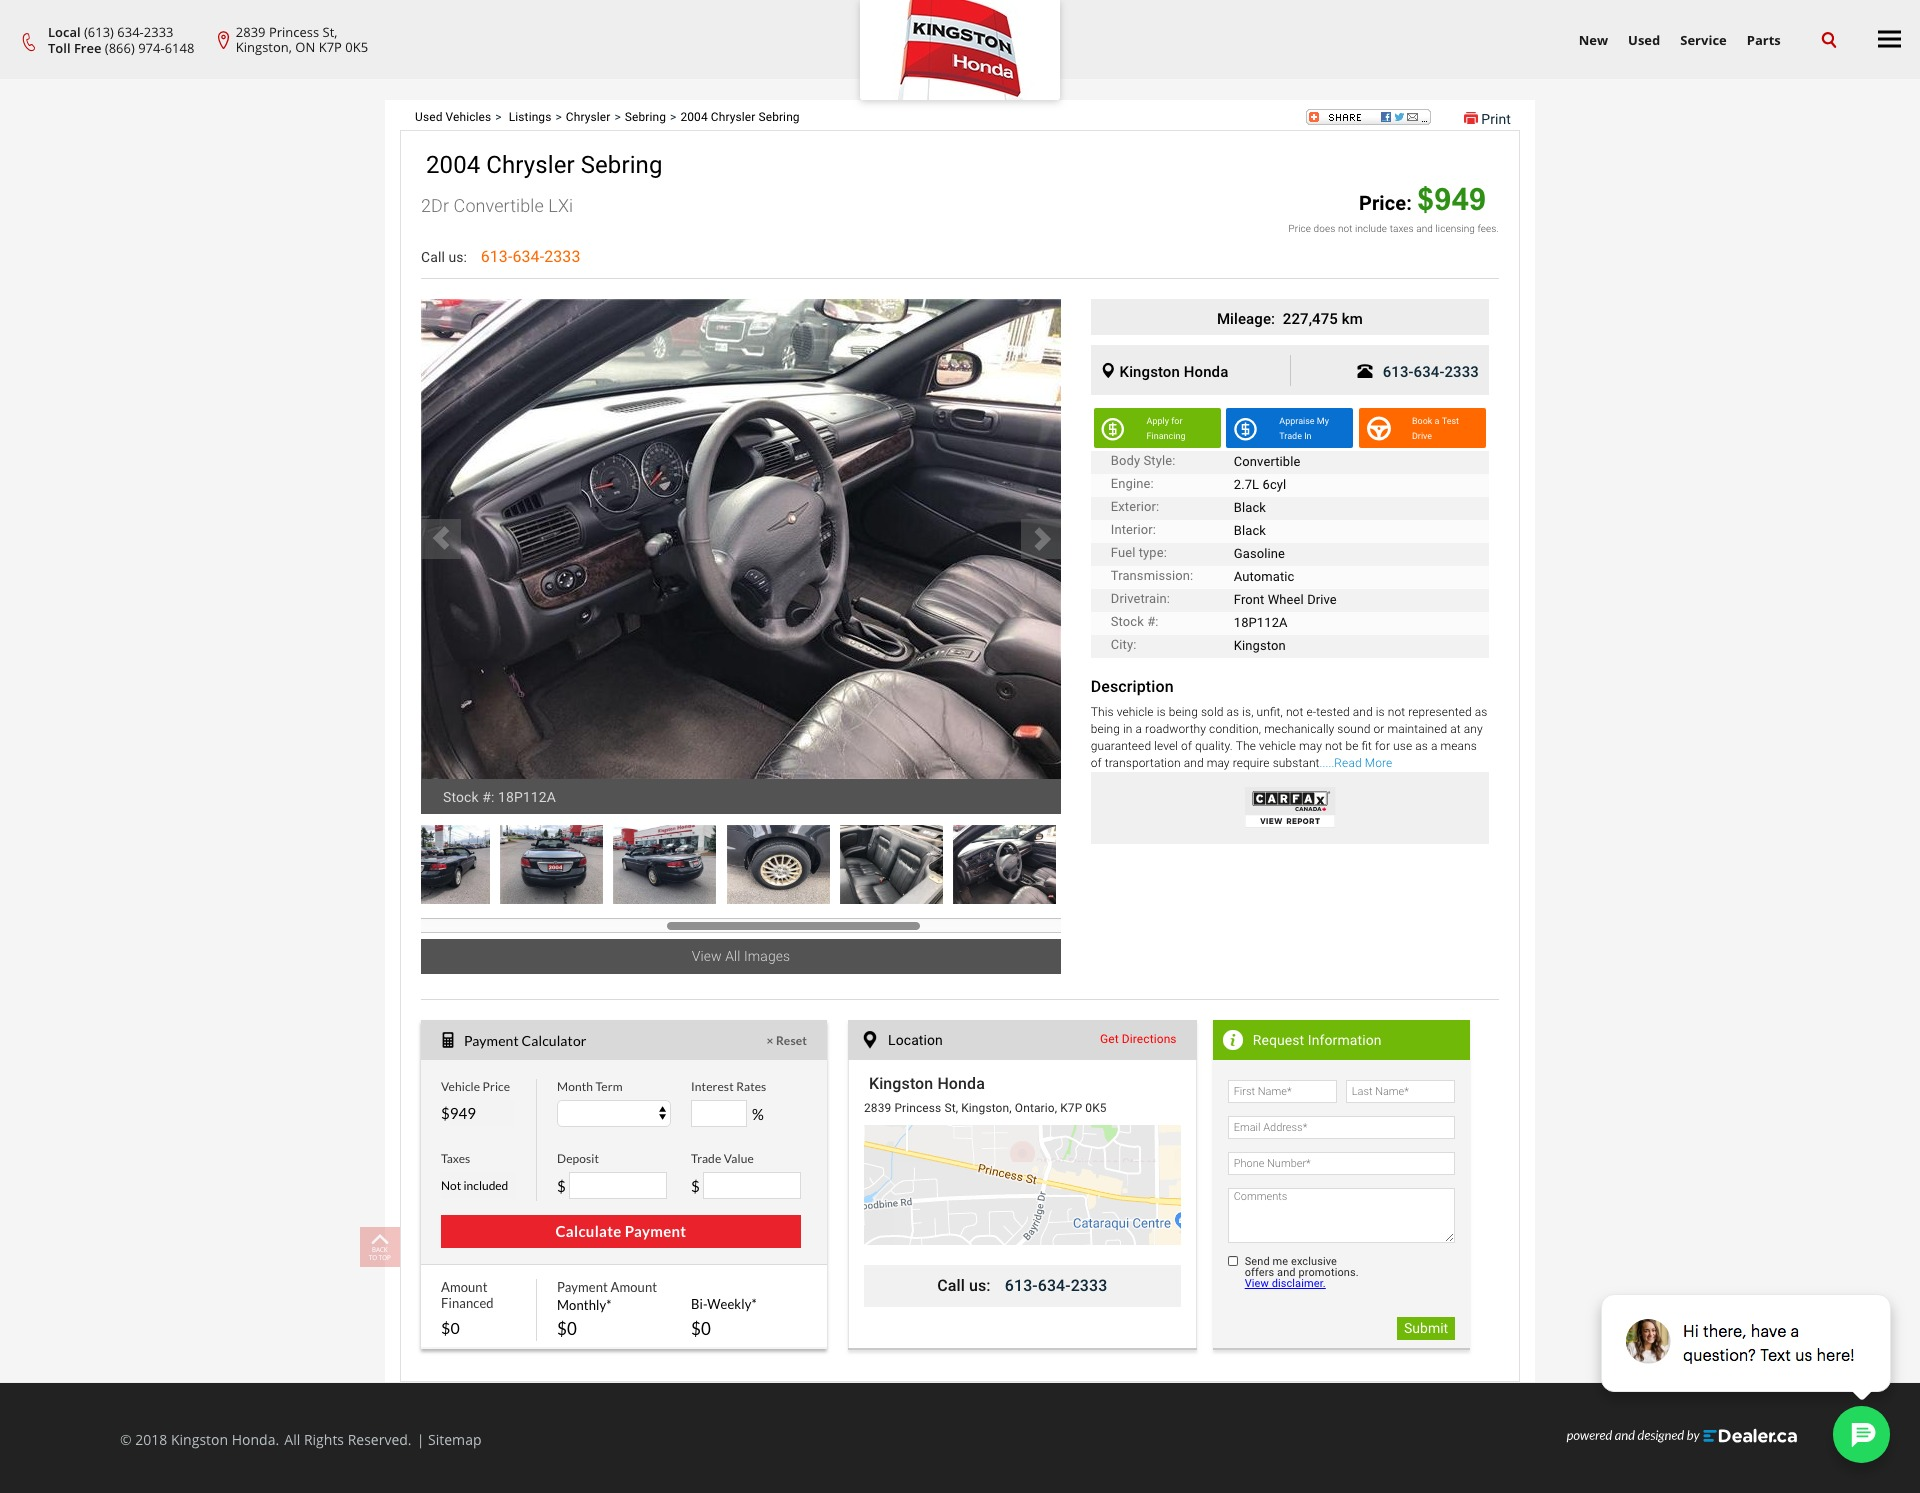car: (1018, 517, 1064, 563)
